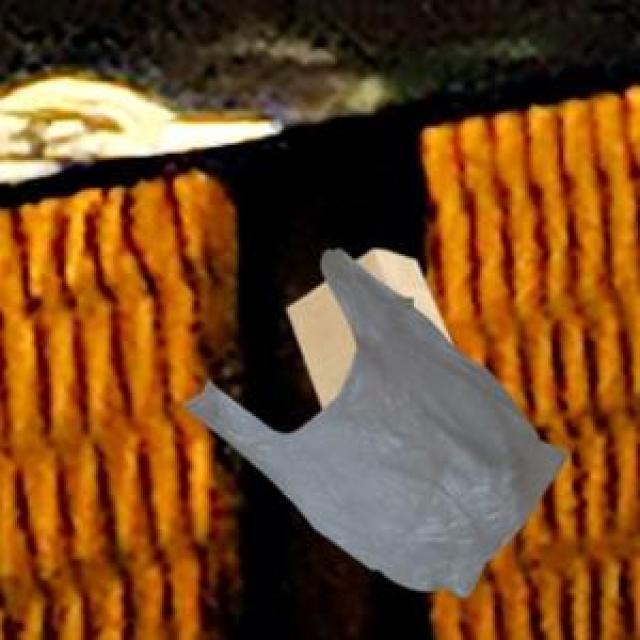paper: (284, 245, 447, 403)
